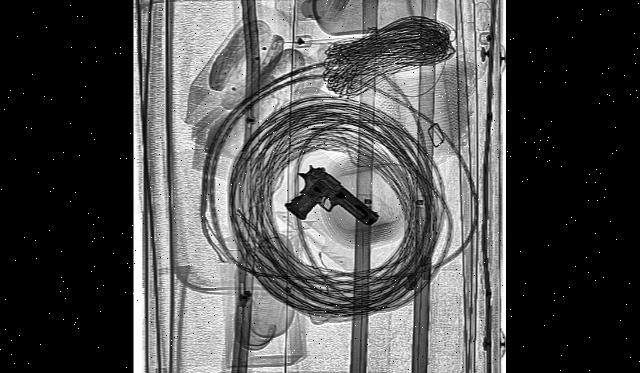Gun: (284, 141, 376, 280)
